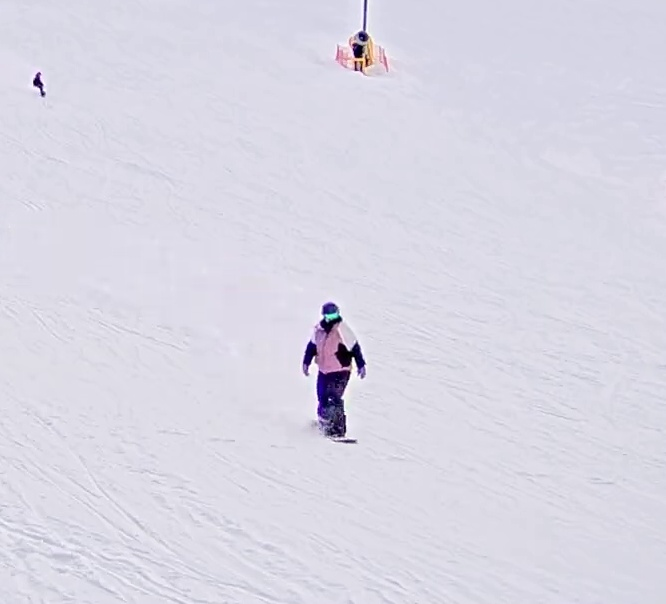snowboarder: (296, 295, 370, 447)
